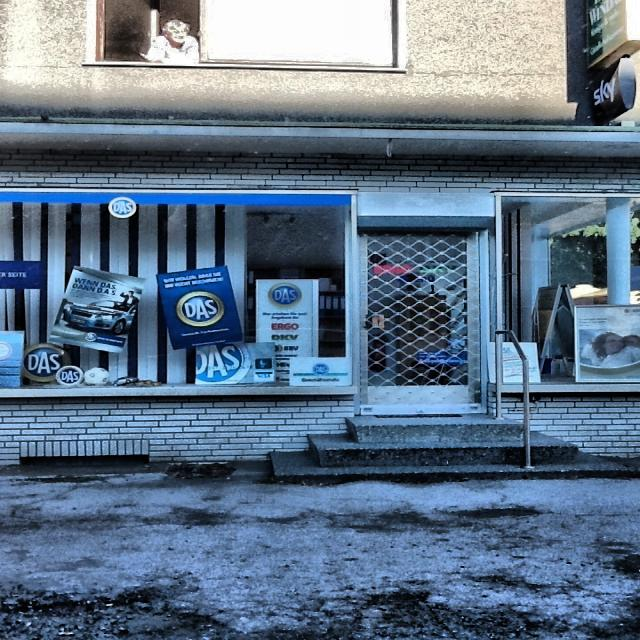escada: (262, 414, 638, 484)
